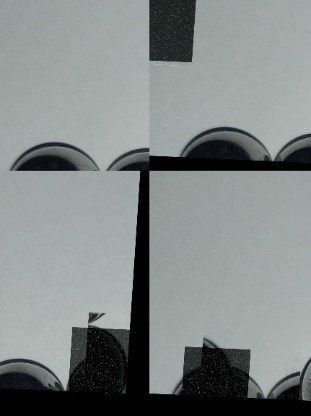ironball: (73, 324, 134, 390), (187, 345, 255, 396), (176, 126, 276, 160), (149, 0, 200, 61), (4, 140, 103, 168), (0, 354, 70, 391), (289, 354, 311, 399)
